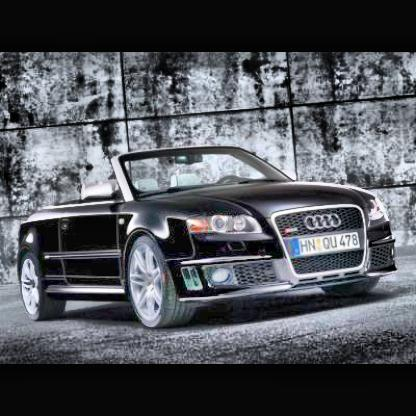Audi RS 4 Convertible 2008: (21, 150, 398, 330)
